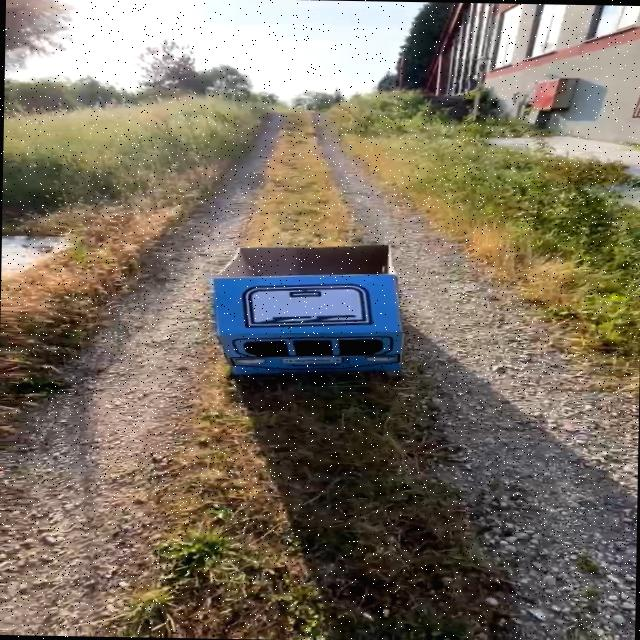blue_car: (185, 228, 435, 409)
